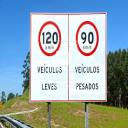speed_limit_120: (38, 19, 63, 58)
speed_limit_90: (75, 20, 100, 58)
